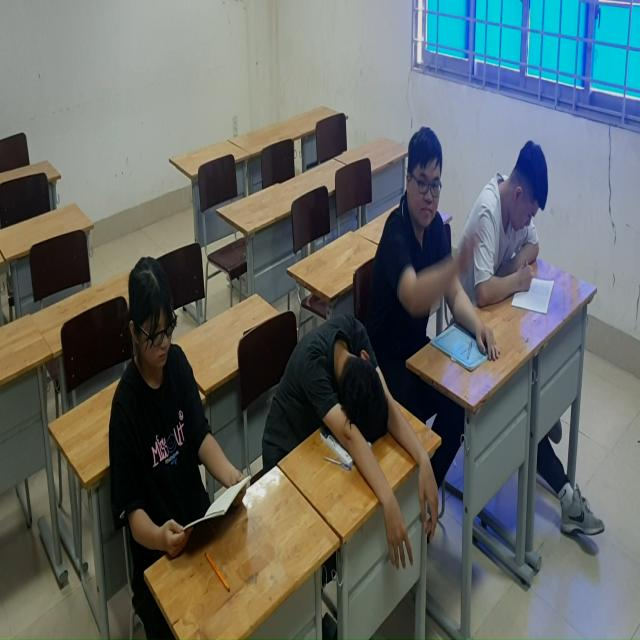read: (107, 237, 255, 563), (462, 137, 561, 316)
sleep: (261, 314, 441, 572)
